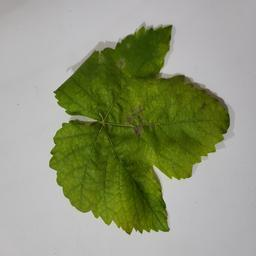Powdery-Mildew: (122, 101, 151, 136), (84, 86, 111, 109), (111, 55, 128, 72), (153, 93, 169, 109), (142, 174, 158, 190)
